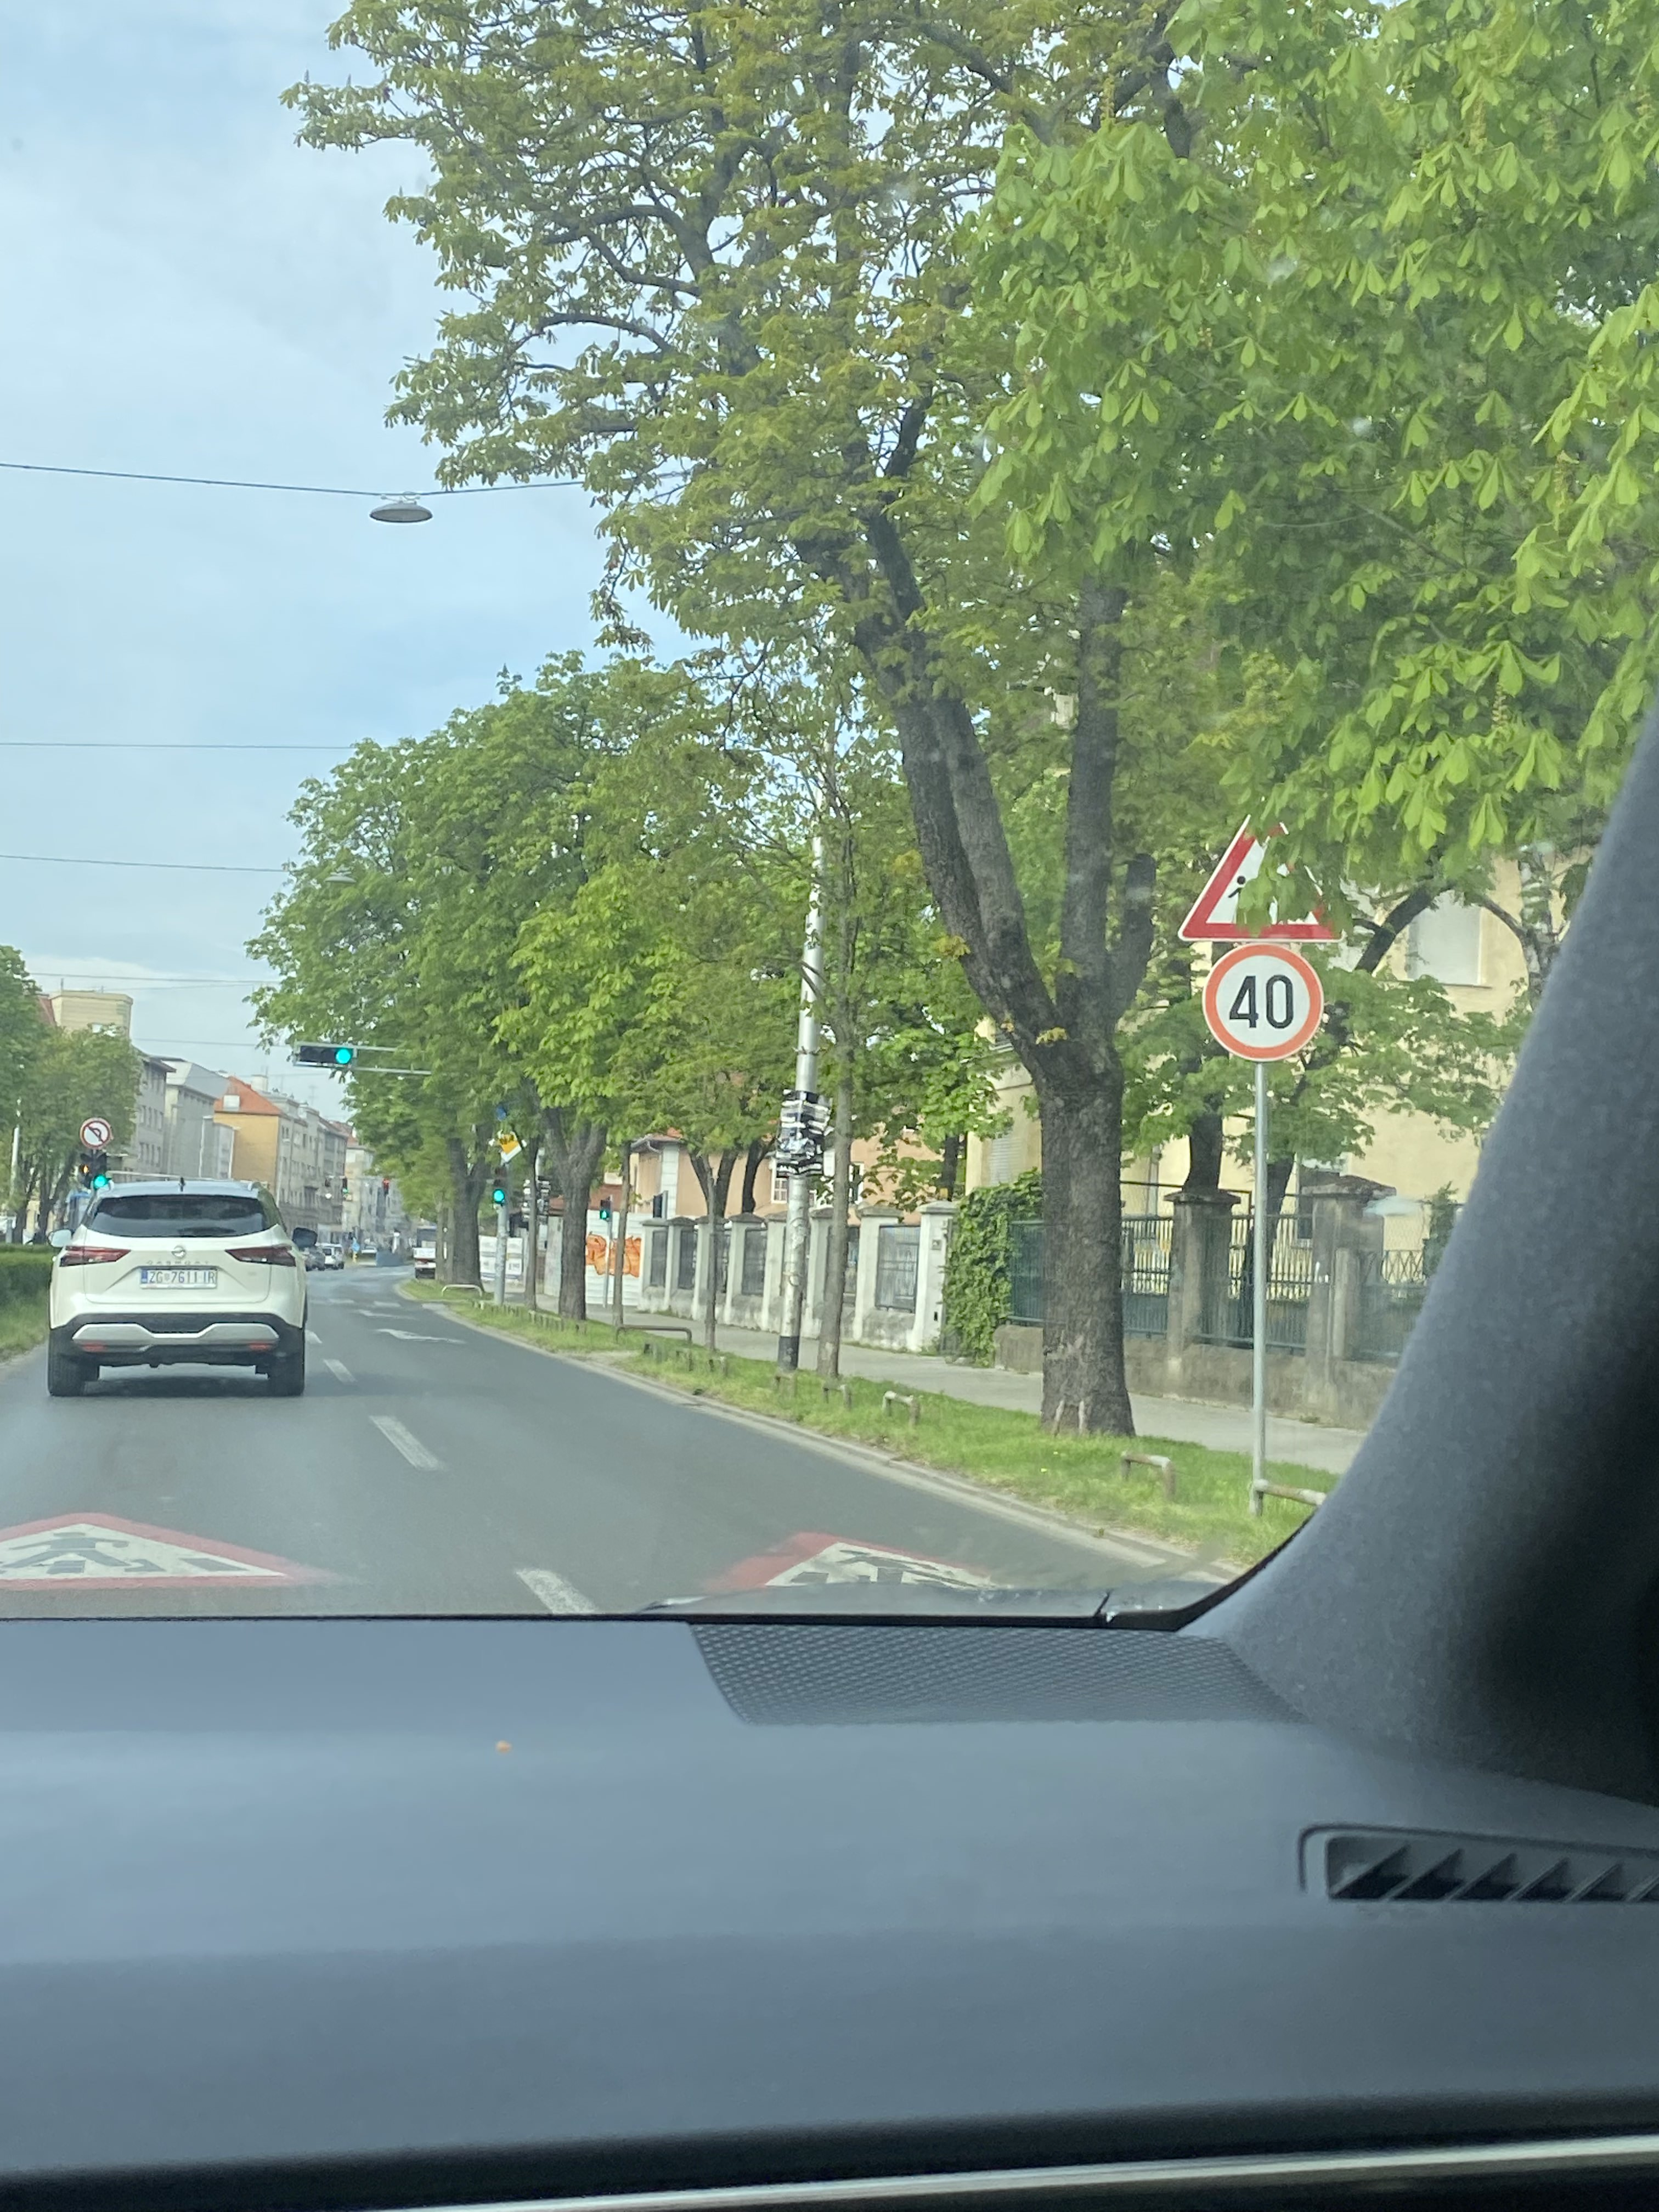Ograničenje brzine 40: (1201, 942, 1324, 1062)
